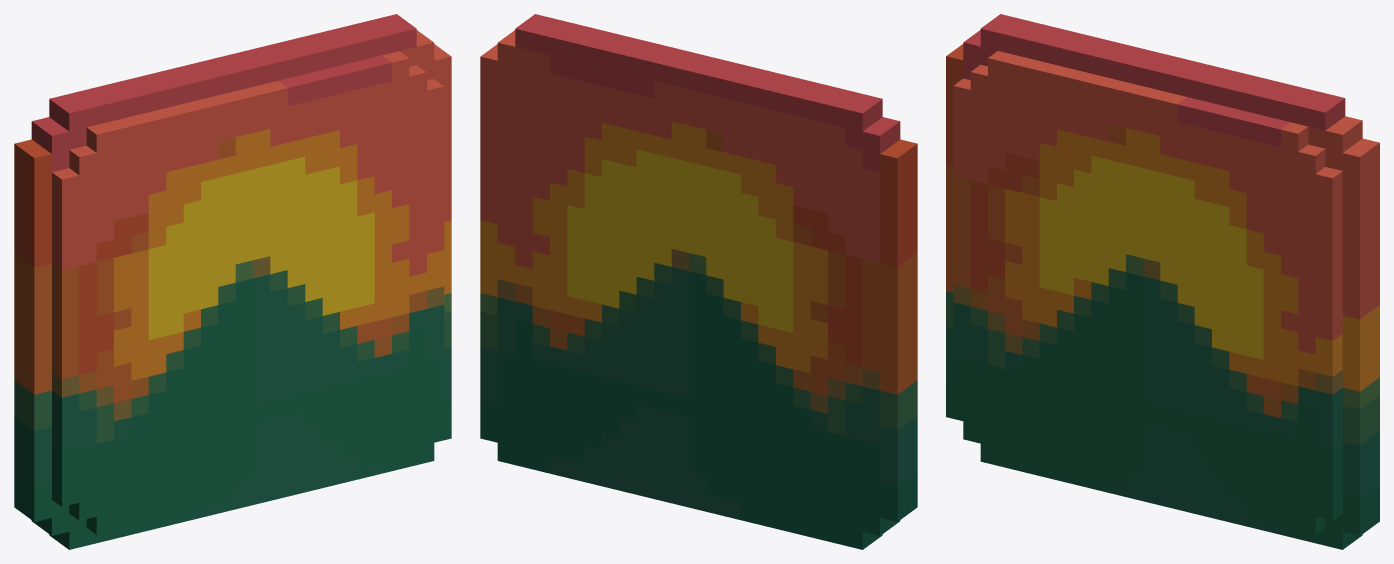
File: postcard-mountains.glb
3 renders of one model, left to right at view 1: azimuth 30°, elevation 25°; view 2: azimuth 150°, elevation 25°; view 3: azimuth 330°, elevation 25°, orthographic.
Parts seen in each view (by area): view 1: prop; view 2: prop; view 3: prop.
Part boxes in pixels (left/top/right/bottom): prop: left=14, top=14, right=451, bottom=549; prop: left=480, top=14, right=917, bottom=549; prop: left=946, top=14, right=1379, bottom=549.
Bounding box in the file's own units: 16 × 16 × 2.
